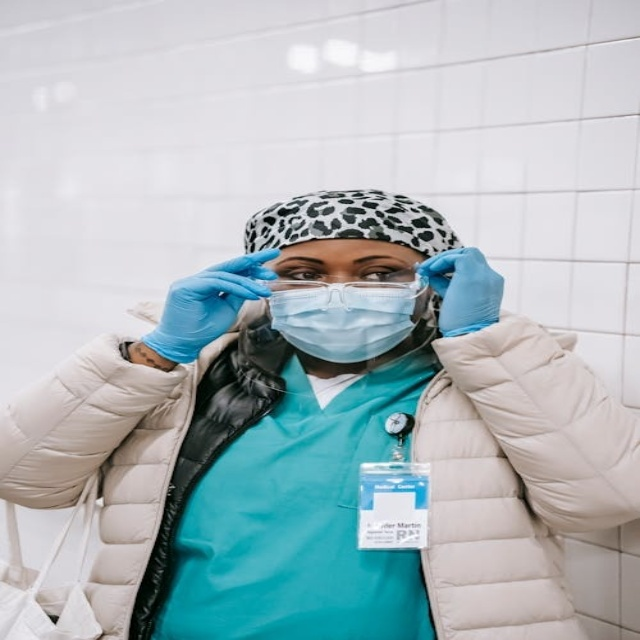Gafas: (259, 265, 436, 315)
Guantes: (141, 247, 281, 364), (415, 246, 503, 339)
Mascara: (261, 272, 430, 363)
